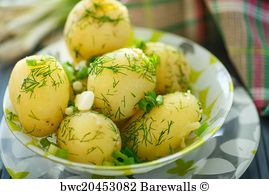boiled potatoes: (11, 57, 70, 132), (89, 48, 152, 116), (133, 94, 198, 156), (71, 1, 130, 58), (60, 113, 121, 161)
